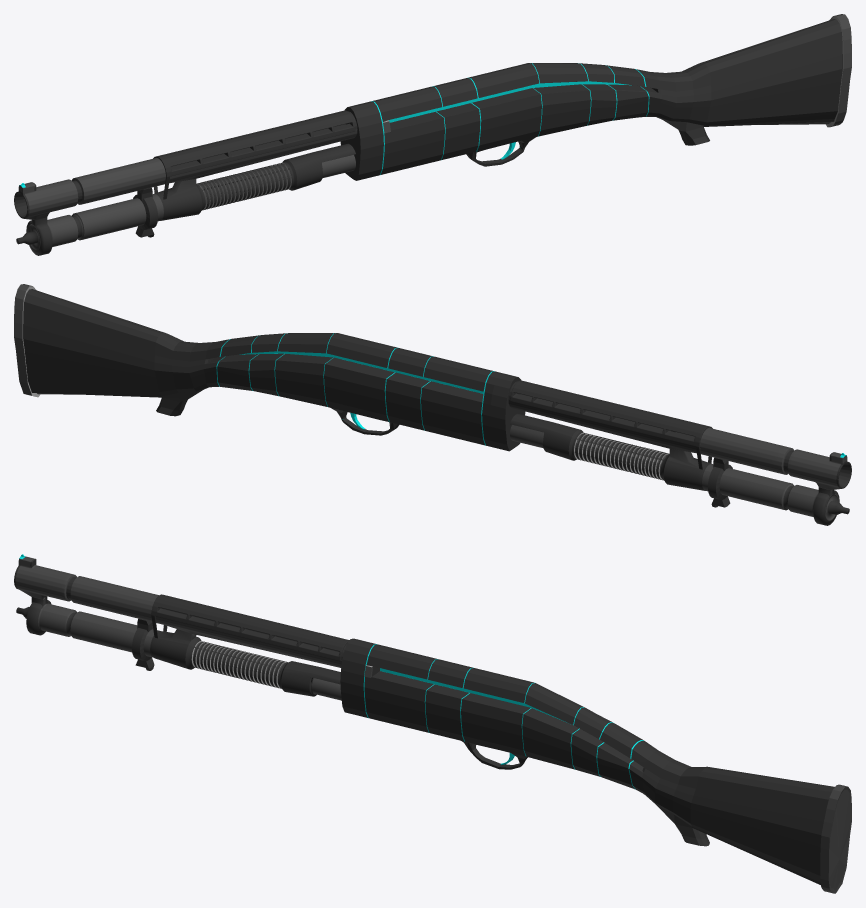
The model's file is ShotgunUV.fbx.
3 views of the same model, one above another, from view 1: azimuth 30°, elevation 25°; view 2: azimuth 150°, elevation 25°; view 3: azimuth 330°, elevation 25° (orthographic).
Parts seen in each view (by area): view 1: Shotgun; view 2: Shotgun; view 3: Shotgun.
Boxes of the visible parts, x1,y1,x2,y2 form: Shotgun: [14, 14, 851, 255]; Shotgun: [14, 284, 851, 525]; Shotgun: [14, 554, 851, 893].
Bounding box in the file's own units: 68.46 × 11.13 × 3.18.
